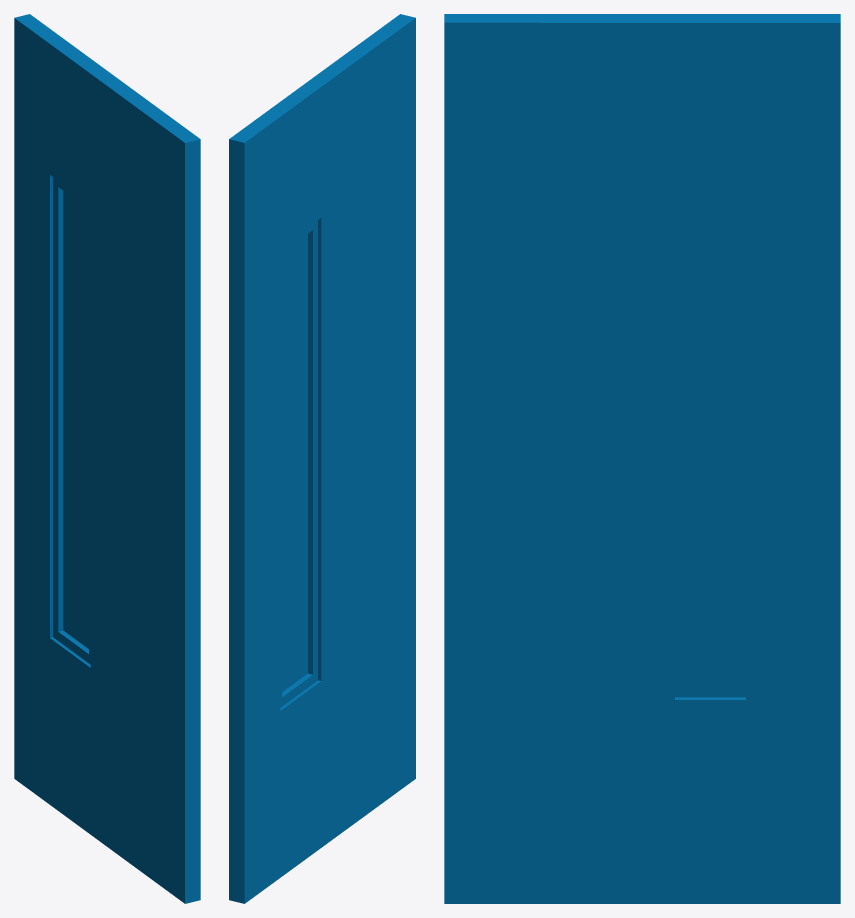
File: MainDoor1bTransformed1.fbx
3 views of the same model, side by side, from view 1: azimuth 30°, elevation 25°; view 2: azimuth 150°, elevation 25°; view 3: azimuth 270°, elevation 25° (orthographic). The views are drawn at different scales.
Parts seen in each view (by area): view 1: HB_Door_Concept_Int_Dbl_Solid_VP_- DT-04:1760x2110mm RB DT 0; view 2: HB_Door_Concept_Int_Dbl_Solid_VP_- DT-04:1760x2110mm RB DT 0; view 3: HB_Door_Concept_Int_Dbl_Solid_VP_- DT-04:1760x2110mm RB DT 0.
Part boxes in pixels (x1,y1,x2,y2): HB_Door_Concept_Int_Dbl_Solid_VP_- DT-04:1760x2110mm RB DT 0: [14, 14, 200, 903]; HB_Door_Concept_Int_Dbl_Solid_VP_- DT-04:1760x2110mm RB DT 0: [229, 14, 415, 903]; HB_Door_Concept_Int_Dbl_Solid_VP_- DT-04:1760x2110mm RB DT 0: [444, 14, 840, 903].
Size of the model in its own units: 0.0446 by 2.05 by 0.8365.
